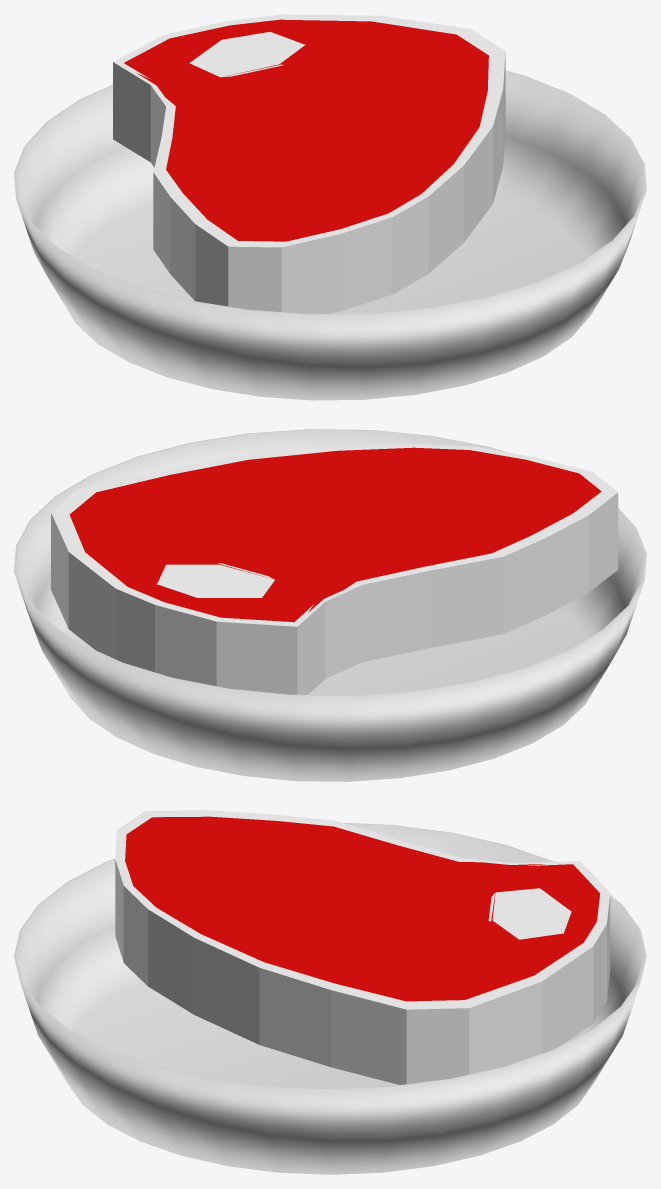
File: SteakPlate.fbx
3 renders of one model, top to bottom at view 1: azimuth 30°, elevation 25°; view 2: azimuth 150°, elevation 25°; view 3: azimuth 270°, elevation 25°, orthographic.
Parts seen in each view (by area): view 1: STEAKPLATE; view 2: STEAKPLATE; view 3: STEAKPLATE.
Boxes of the visible parts, x1,y1,x2,y2 form: STEAKPLATE: (14,14,646,400); STEAKPLATE: (14,429,646,781); STEAKPLATE: (14,810,646,1174).
Size of the model in its own units: 131 by 131 by 35.56.
